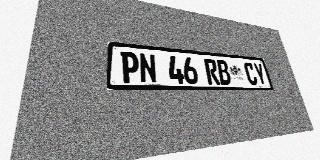4: (167, 55, 185, 84)
6: (181, 57, 199, 84)
B: (216, 60, 232, 85)
C: (243, 62, 258, 85)
N: (139, 53, 157, 84)
P: (120, 51, 139, 83)
R: (203, 58, 220, 85)
Y: (252, 63, 268, 85)
